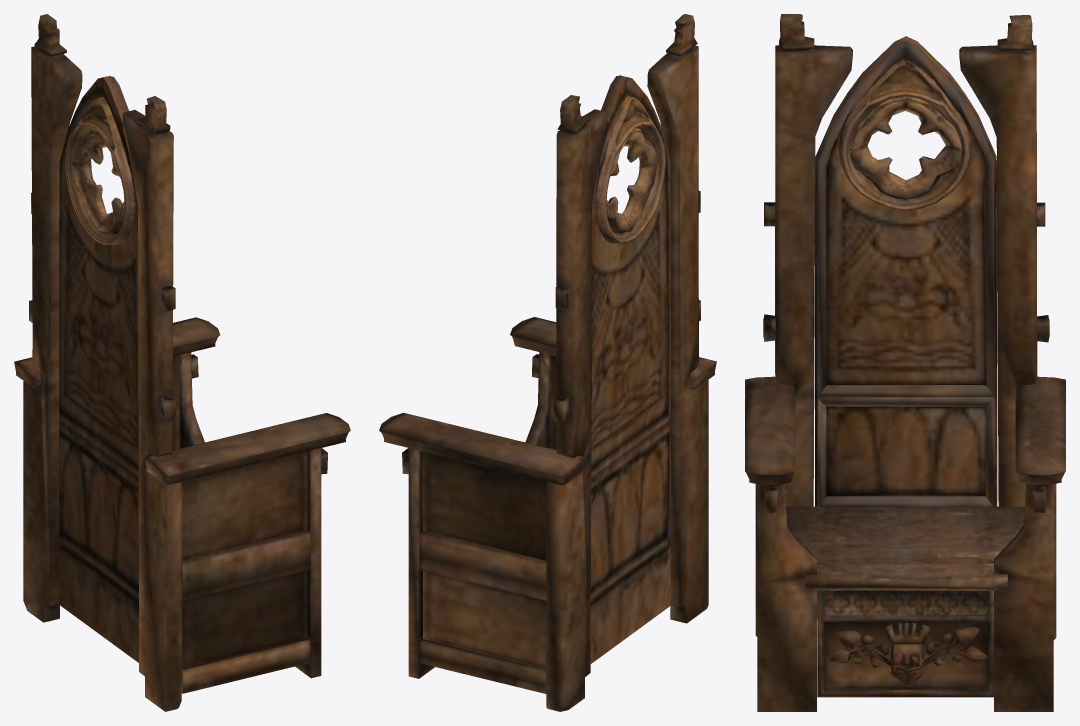
The model's file is throne.lod0.glb.
3 views of the same model, side by side, from view 1: azimuth 30°, elevation 25°; view 2: azimuth 150°, elevation 25°; view 3: azimuth 270°, elevation 25° (orthographic). The views are drawn at different scales.
Parts seen in each view (by area): view 1: Throne_Throne_0; view 2: Throne_Throne_0; view 3: Throne_Throne_0.
Part boxes in pixels (x1,y1,x2,y2): Throne_Throne_0: (14,14,350,711); Throne_Throne_0: (379,14,716,711); Throne_Throne_0: (745,14,1065,711).
Size of the model in its own units: 0.7169 by 2.2 by 1.03.
1 material, 1 textured.
